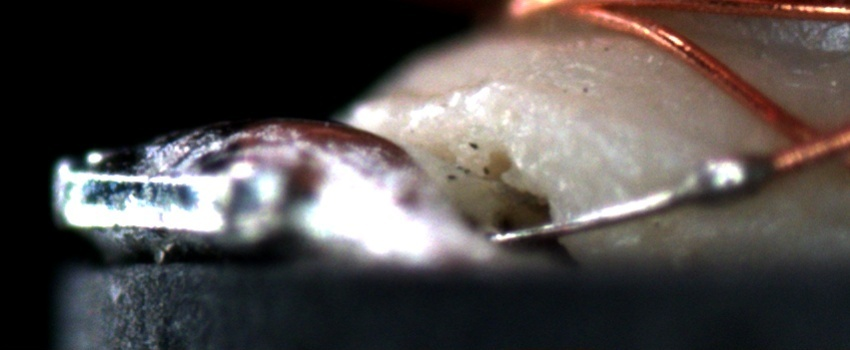TB: (663, 150, 767, 210)
TS: (486, 157, 770, 245)
TTCW: (488, 139, 818, 246)
